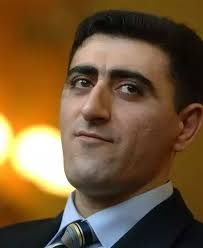middle_eastern_male: (61, 34, 181, 195)
